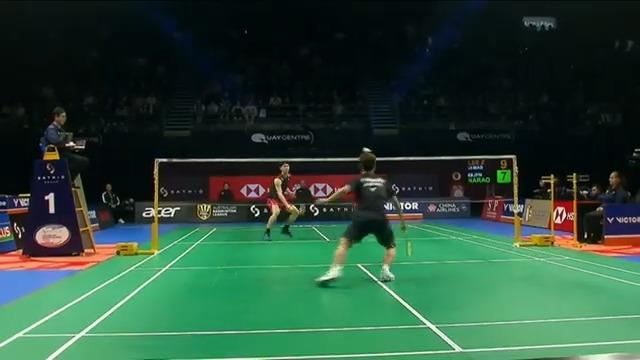Shuttlecock: (361, 143, 372, 153)
